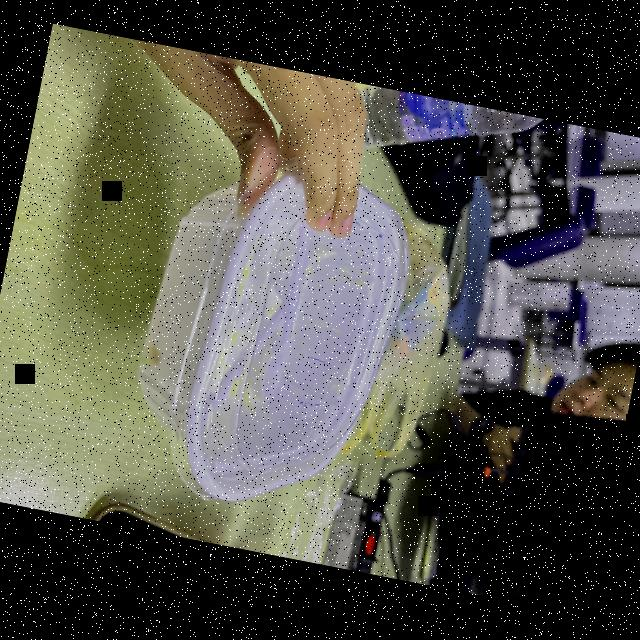plastic_box: (106, 138, 432, 537)
